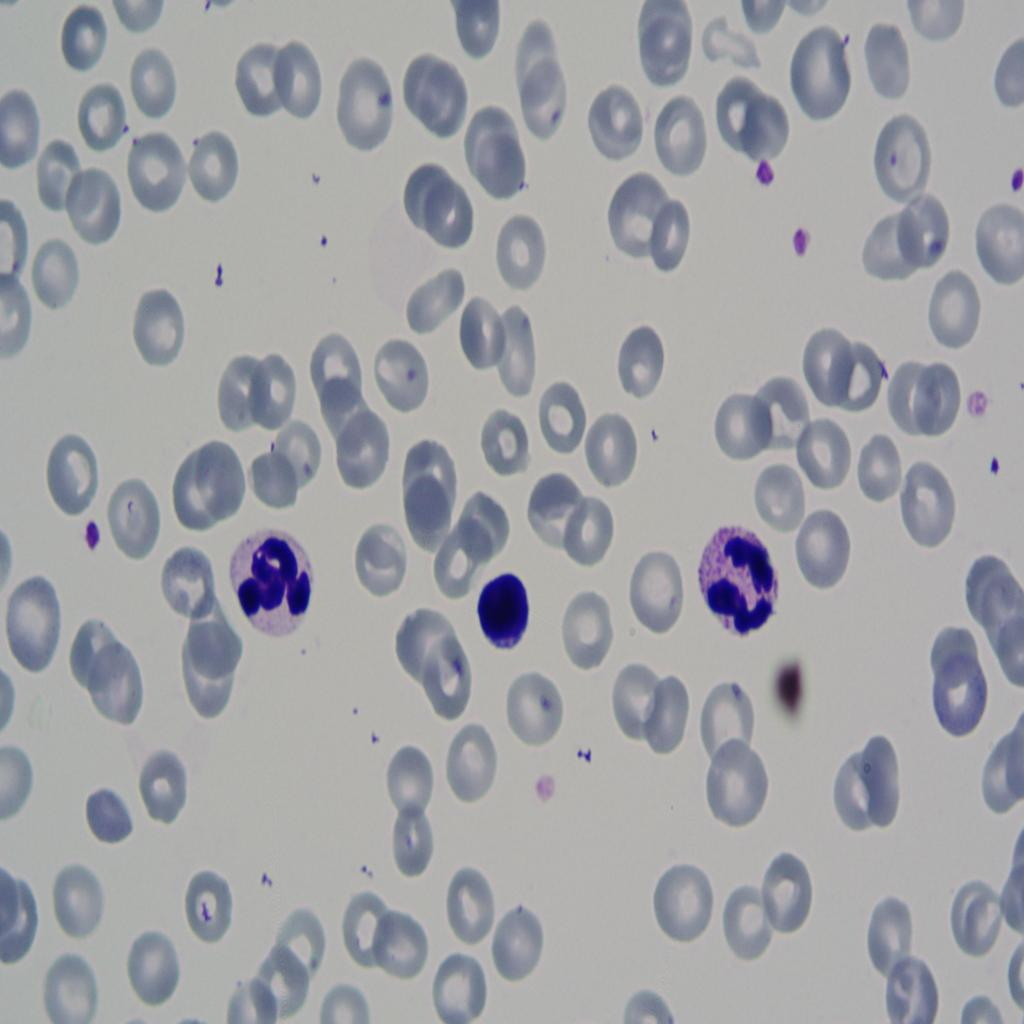Myeoblast: (471, 559, 536, 652)
Neutrofil: (214, 507, 321, 654), (696, 521, 782, 646)
Platelet: (781, 219, 816, 278), (748, 139, 781, 194), (999, 158, 1024, 219), (965, 373, 986, 431), (926, 222, 949, 268), (80, 512, 98, 550), (992, 448, 1010, 484)
